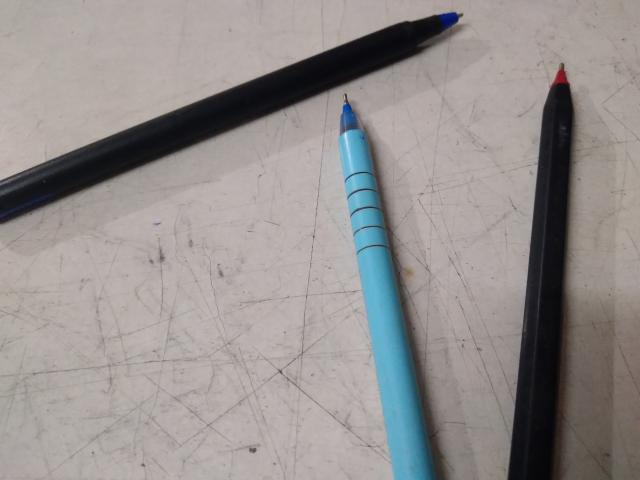PEN: (322, 89, 451, 480), (502, 54, 587, 480)
